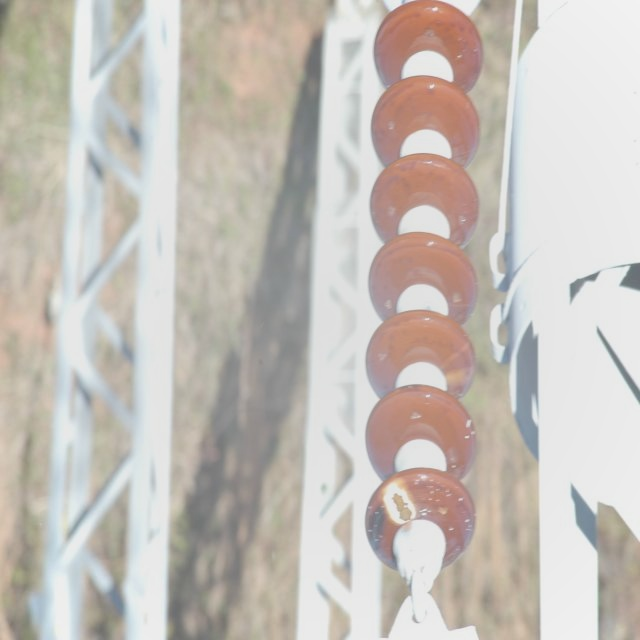insulator: (366, 4, 484, 572)
